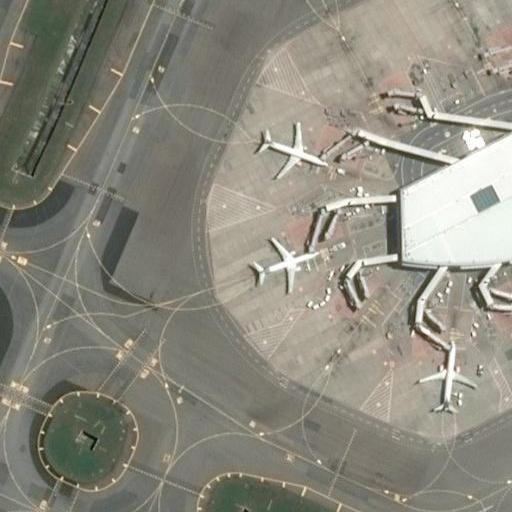Aircraft: (419, 339, 477, 415), (250, 234, 323, 291), (253, 120, 323, 177)
